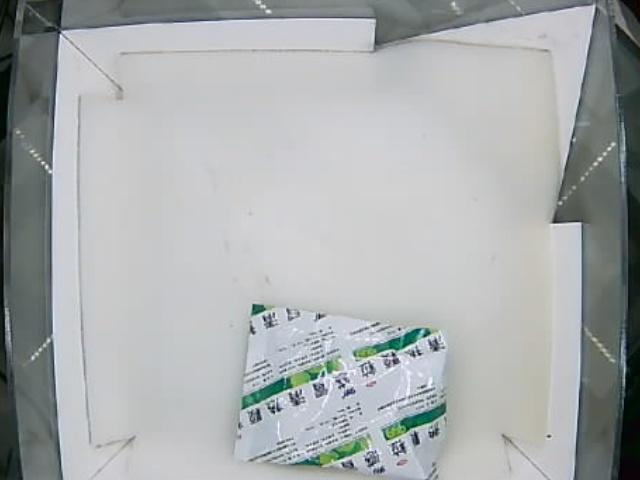Medicine: (233, 303, 452, 480)
